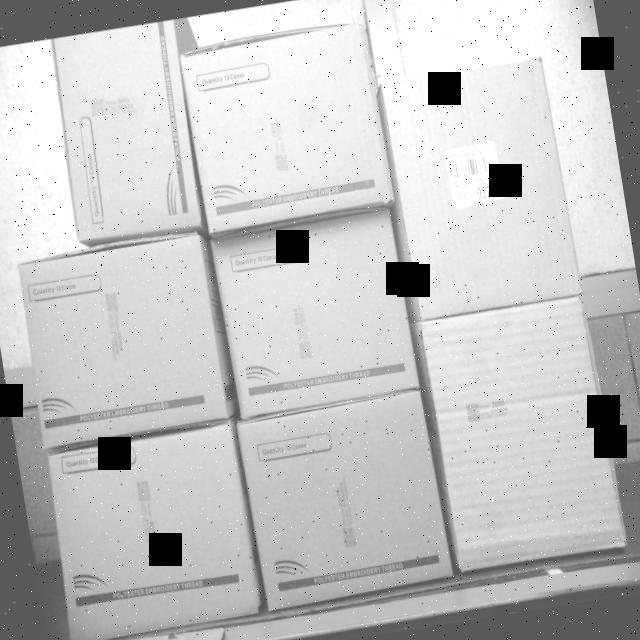box: (415, 294, 630, 572), (373, 53, 582, 325), (38, 419, 262, 640), (236, 390, 455, 616), (12, 234, 236, 451), (180, 19, 392, 236), (207, 208, 420, 416), (47, 20, 205, 248)
